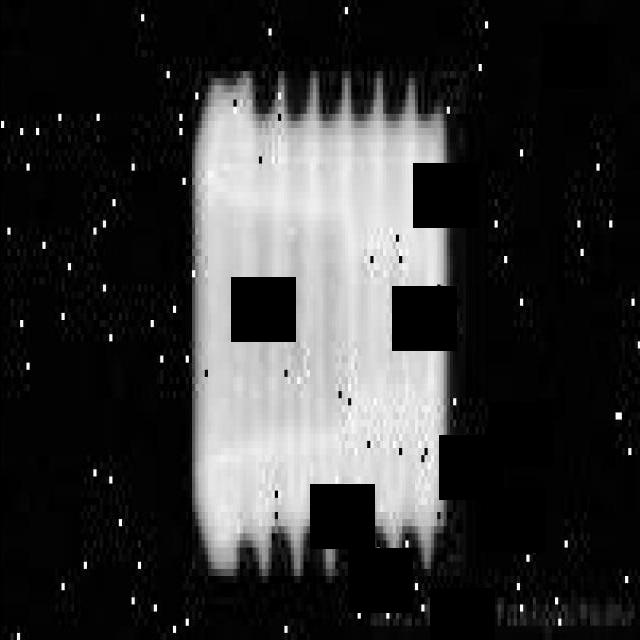Nobel Biocare Implant: (188, 70, 468, 579)
